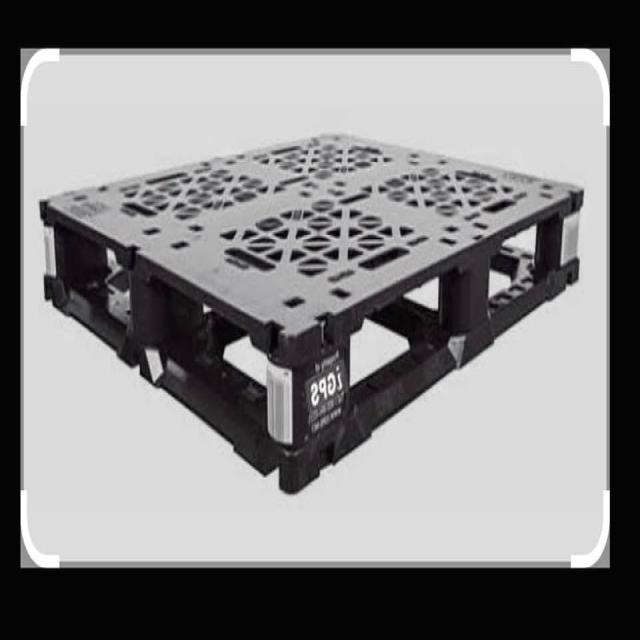igps: (31, 117, 592, 504)
